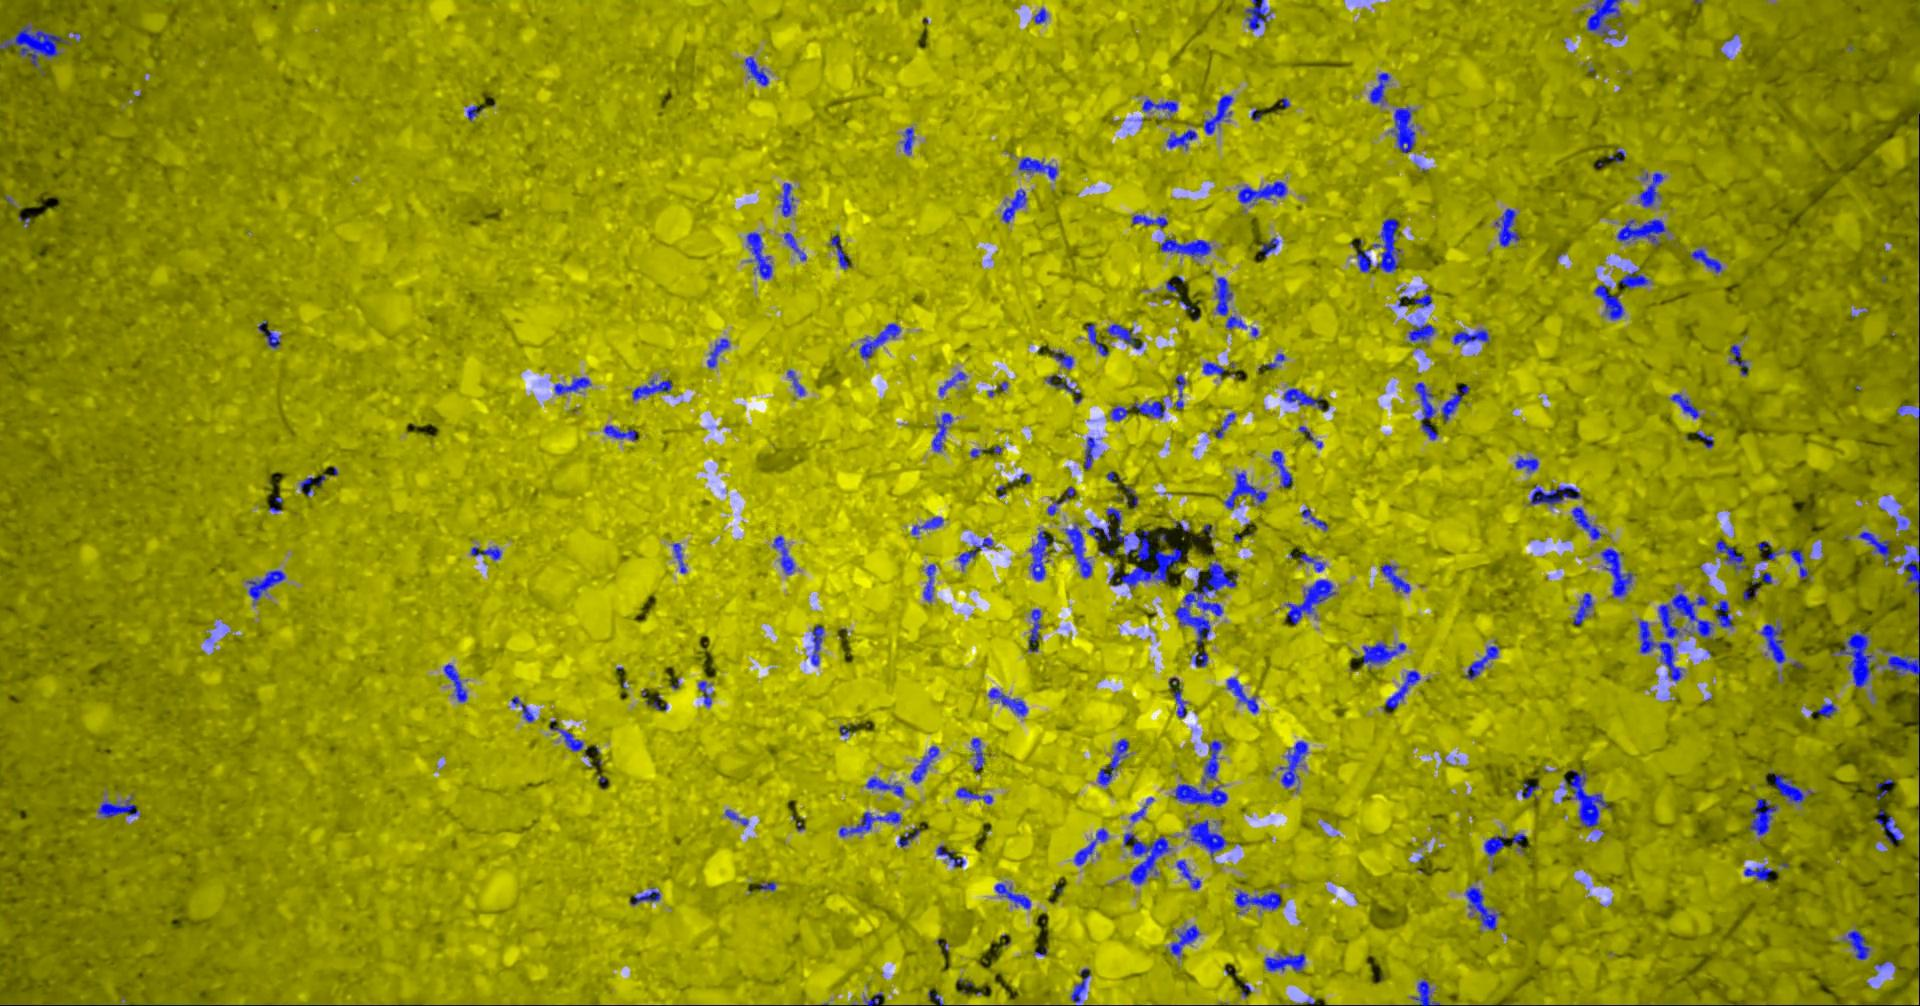ant: (1564, 768, 1613, 827), (1125, 833, 1172, 884), (1288, 579, 1337, 622), (1840, 633, 1874, 687), (1217, 277, 1248, 329), (1225, 473, 1269, 509), (841, 810, 902, 836), (1385, 669, 1421, 713), (1373, 218, 1402, 271), (861, 323, 902, 359), (1098, 738, 1130, 785), (1065, 523, 1093, 577), (1603, 547, 1633, 596), (1191, 819, 1229, 857), (1467, 887, 1501, 929), (248, 570, 287, 605), (1618, 218, 1667, 245), (1281, 741, 1309, 788), (1416, 382, 1439, 439), (1030, 530, 1055, 580), (1176, 782, 1229, 807), (1589, 0, 1622, 38), (1076, 827, 1109, 865), (1364, 641, 1407, 669), (748, 231, 773, 278), (1204, 95, 1234, 133), (1228, 677, 1260, 713), (1392, 107, 1416, 152), (1239, 180, 1288, 203), (1284, 387, 1330, 412), (1531, 484, 1582, 506), (959, 537, 994, 568), (1750, 796, 1778, 835), (989, 688, 1029, 715), (1467, 647, 1498, 680), (1595, 285, 1625, 319), (1443, 384, 1470, 420), (912, 746, 940, 782), (1236, 890, 1283, 912), (1860, 531, 1891, 564), (1107, 323, 1144, 349), (1763, 622, 1787, 663), (1496, 208, 1521, 246), (1161, 238, 1211, 257), (1717, 539, 1749, 569), (1573, 506, 1603, 539), (1771, 774, 1806, 801), (1048, 375, 1083, 401), (996, 883, 1032, 908), (1172, 925, 1201, 956), (444, 663, 469, 701), (1876, 809, 1902, 843), (1382, 563, 1412, 592), (1890, 654, 1920, 683), (1203, 741, 1223, 784), (1003, 188, 1029, 222), (1020, 158, 1059, 179), (775, 535, 796, 574), (1641, 171, 1665, 206), (632, 379, 673, 399), (933, 412, 954, 451), (99, 796, 138, 817), (551, 727, 584, 751), (1272, 450, 1294, 486), (1246, 0, 1272, 29), (867, 776, 905, 796), (1845, 929, 1870, 959), (1691, 248, 1723, 272), (1266, 951, 1305, 970), (1109, 508, 1129, 545), (1049, 486, 1076, 514), (1671, 392, 1700, 418), (1178, 859, 1203, 889), (1088, 323, 1111, 354), (1413, 979, 1441, 1005), (745, 56, 770, 85), (1072, 968, 1091, 1005), (1905, 547, 1920, 593), (940, 371, 968, 395), (709, 338, 731, 367), (785, 232, 808, 260), (938, 845, 966, 868), (830, 235, 850, 268), (1575, 592, 1594, 624), (259, 320, 281, 348), (1790, 549, 1811, 578), (1143, 98, 1178, 114), (556, 377, 592, 394), (811, 624, 825, 666), (1131, 796, 1156, 821), (1371, 72, 1390, 103), (1303, 508, 1330, 530), (1131, 400, 1166, 417), (913, 516, 945, 533), (957, 788, 994, 803), (1168, 130, 1197, 149), (1300, 426, 1324, 448), (1030, 608, 1043, 652), (513, 696, 535, 721), (1731, 344, 1749, 375), (1217, 412, 1237, 438), (631, 887, 662, 904), (1455, 329, 1490, 344), (1622, 271, 1650, 288), (1717, 600, 1735, 627), (1090, 521, 1112, 542), (1484, 835, 1509, 855), (1410, 324, 1436, 342), (1133, 213, 1170, 226), (924, 564, 937, 601), (604, 426, 637, 439), (1084, 436, 1098, 469), (971, 737, 985, 770), (1302, 553, 1326, 572), (789, 370, 806, 395), (301, 474, 328, 490), (674, 542, 688, 573), (1745, 866, 1774, 880), (1053, 351, 1076, 368), (1176, 373, 1187, 409), (783, 182, 795, 216), (1173, 688, 1187, 716), (1877, 779, 1895, 800), (726, 809, 749, 826), (899, 829, 922, 846), (472, 546, 502, 559), (1261, 238, 1280, 257), (1265, 353, 1286, 370), (1204, 362, 1225, 379), (700, 680, 712, 706), (1357, 249, 1373, 271), (1517, 457, 1540, 471), (1698, 431, 1716, 447), (1512, 833, 1528, 852), (905, 127, 916, 154), (1523, 782, 1540, 798), (1818, 702, 1837, 716), (1415, 293, 1432, 307), (865, 992, 884, 1005), (469, 105, 485, 119), (1112, 406, 1129, 420), (1192, 652, 1209, 666), (1035, 8, 1048, 23), (761, 882, 777, 890)
